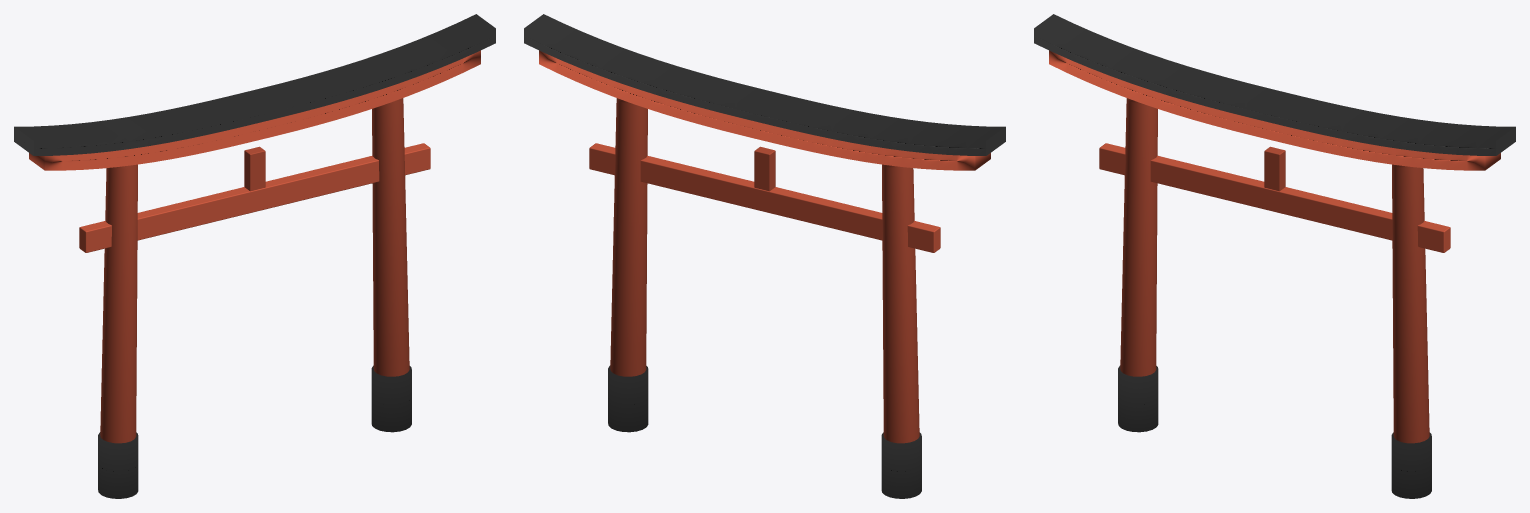
Rendered from torii.glb.
3 views of the same model, side by side, from view 1: azimuth 30°, elevation 25°; view 2: azimuth 150°, elevation 25°; view 3: azimuth 330°, elevation 25° (orthographic).
Parts seen in each view (by area): view 1: torii; view 2: torii; view 3: torii.
Boxes of the visible parts, x1,y1,x2,y2 form: torii: [14, 14, 495, 498]; torii: [524, 14, 1005, 498]; torii: [1034, 14, 1515, 498].
Bounding box in the file's own units: 7.1 × 5.57 × 0.5378.
